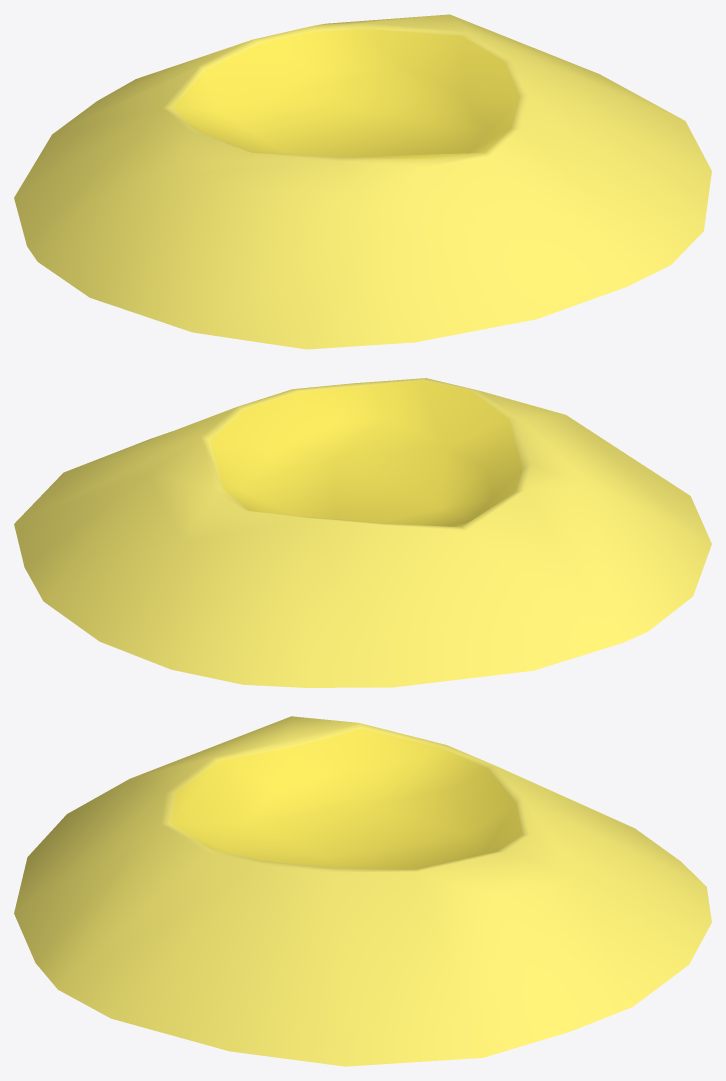
The model's file is Hill_025.glb.
3 views of the same model, one above another, from view 1: azimuth 30°, elevation 25°; view 2: azimuth 150°, elevation 25°; view 3: azimuth 270°, elevation 25° (orthographic). The views are drawn at different scales.
Parts seen in each view (by area): view 1: Hill_025; view 2: Hill_025; view 3: Hill_025.
Boxes of the visible parts, x1,y1,x2,y2 form: Hill_025: (14,14,711,349); Hill_025: (14,378,711,687); Hill_025: (14,716,711,1066).
Size of the model in its own units: 2.28 by 0.3764 by 2.19.
1 material, 1 textured.
